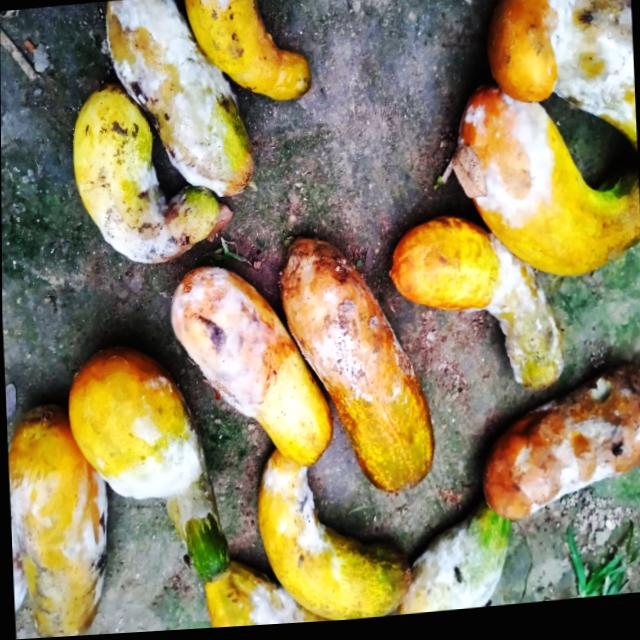Pythium-Fruit-Rot: (102, 0, 243, 214), (274, 233, 415, 425), (506, 378, 640, 522), (164, 260, 275, 432), (461, 238, 560, 405), (454, 95, 559, 251), (8, 471, 111, 629), (96, 408, 215, 541), (543, 0, 636, 145), (251, 463, 346, 599), (89, 158, 175, 275), (402, 522, 506, 618), (233, 586, 303, 629), (198, 0, 237, 20)
